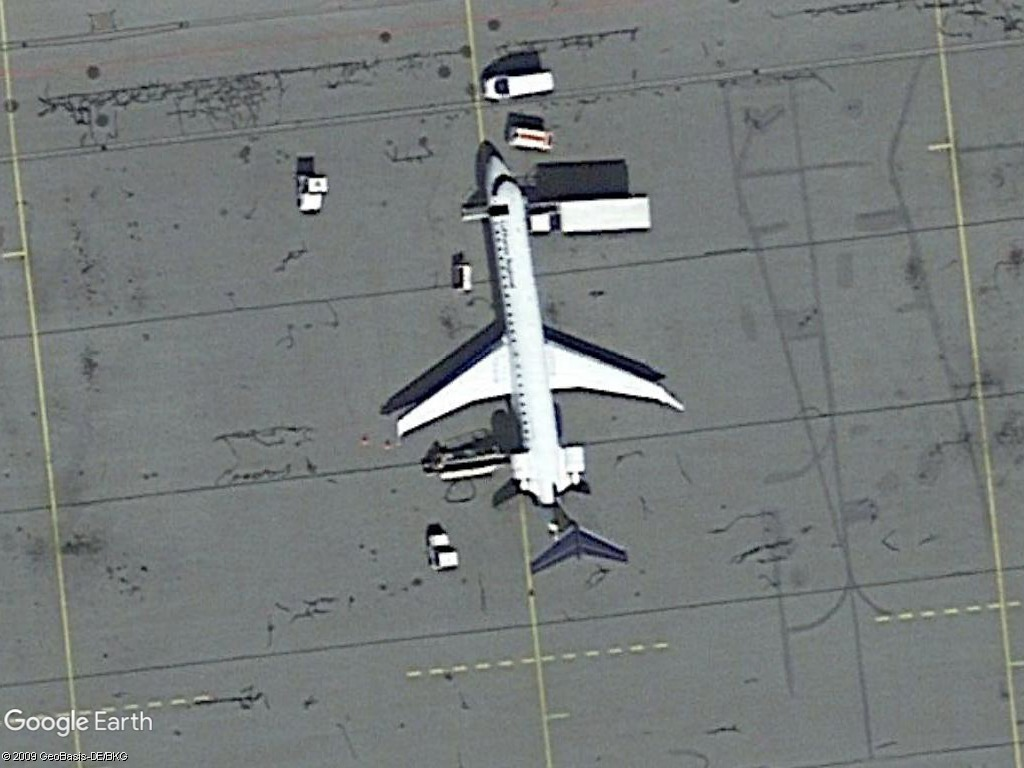chartered: (380, 147, 693, 582)
truck: (524, 188, 651, 243)
van: (480, 64, 556, 105)
